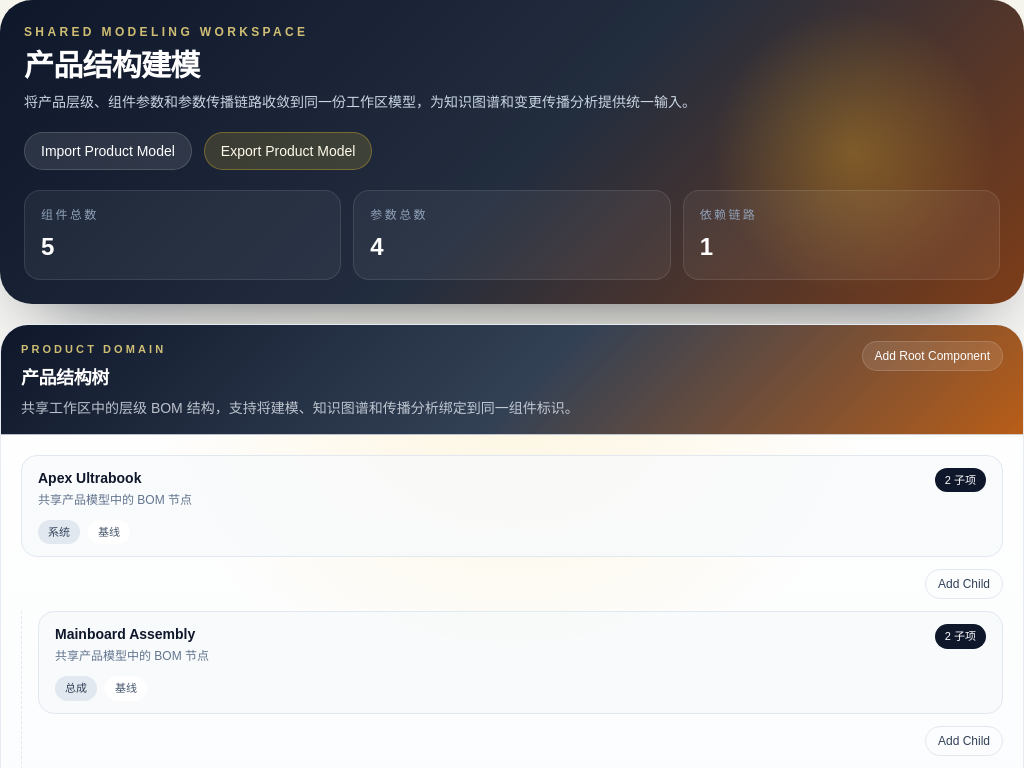
Test case: ProductModelingPage › creates a child component from a BOM node action
Click the button with aria-label "add child component for mainboard assembly" at point(964, 740), box [925, 726, 1003, 756]
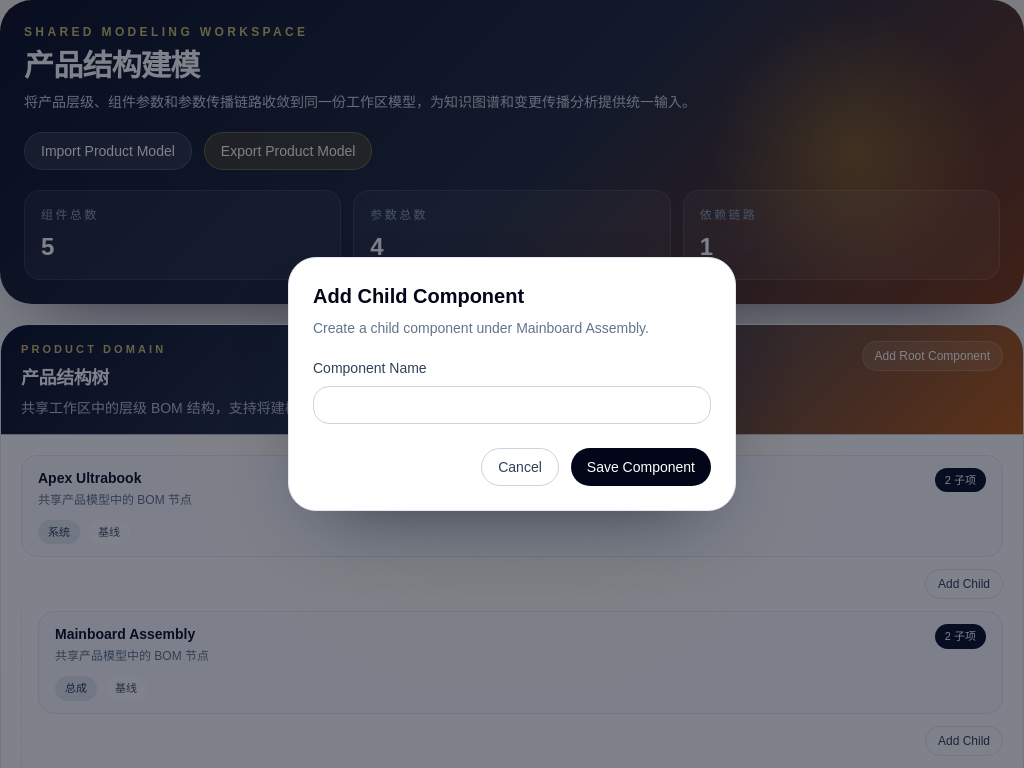
Type "Sensor Hub" into the field labelled "Component Name" at point(512, 405), box [313, 386, 711, 424]
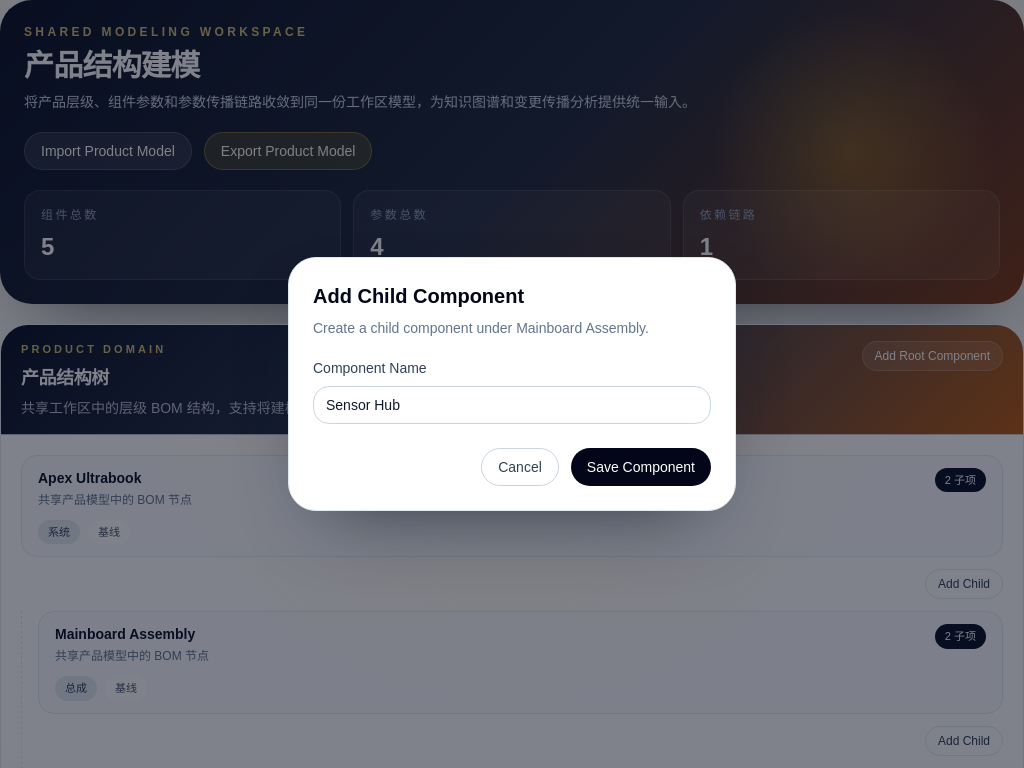
Click the button "Save Component" at point(641, 467), box [571, 448, 711, 486]
(page scrolled)
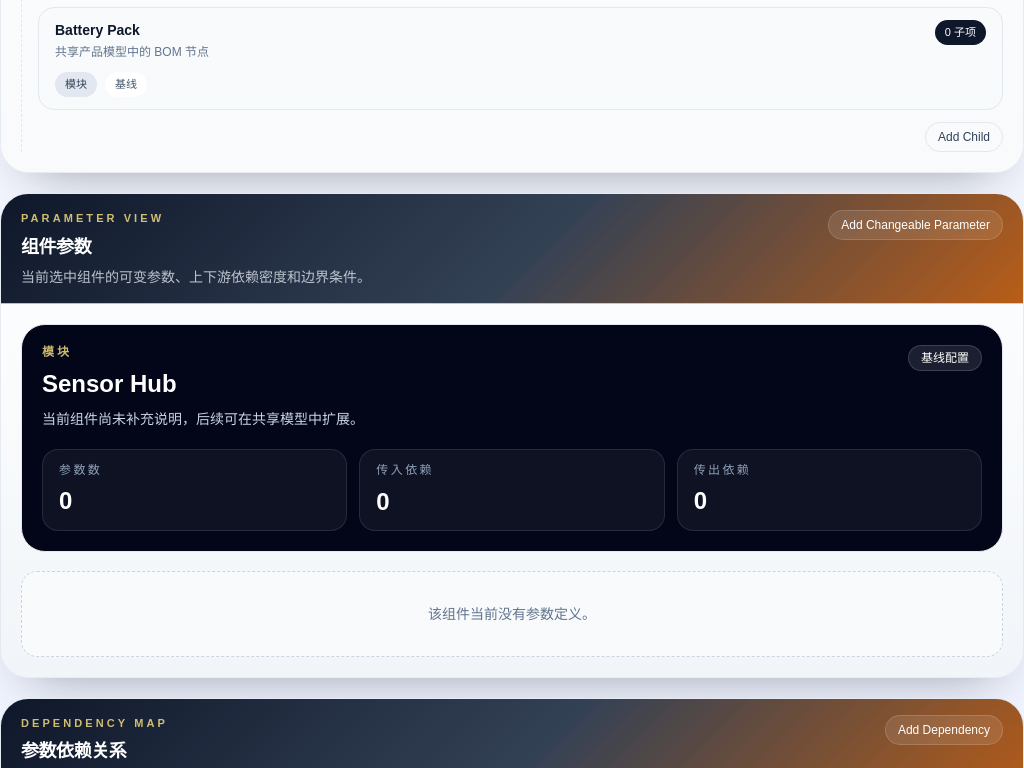
Expected: the heading "Sensor Hub" is shown, [42, 370, 177, 397]
